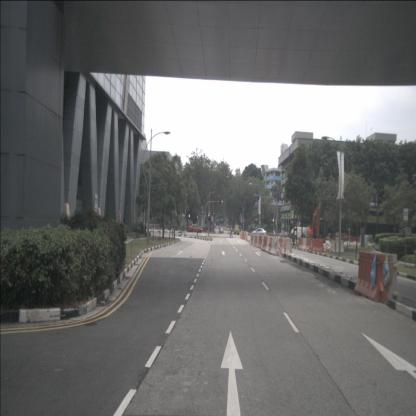human-pedestrian-adult: (230, 226, 233, 238)
movable_object-barrier: (354, 251, 388, 302), (371, 252, 403, 303), (270, 236, 282, 256), (281, 238, 292, 255), (330, 240, 344, 253), (312, 239, 324, 252), (267, 236, 273, 254), (261, 236, 268, 251), (265, 236, 271, 252), (304, 238, 312, 250), (301, 238, 307, 249), (298, 238, 303, 249), (258, 235, 262, 248), (256, 235, 260, 248), (260, 236, 264, 249), (250, 234, 254, 245), (254, 235, 258, 246), (346, 236, 353, 242), (353, 236, 360, 242), (245, 231, 248, 240)
movable_object-trafficcone: (283, 240, 287, 255), (310, 242, 313, 251), (326, 244, 328, 253)
vehicle-car: (291, 226, 308, 240), (252, 228, 267, 237), (188, 224, 203, 233), (220, 227, 224, 234)
vehicle-truck: (234, 225, 240, 235)
